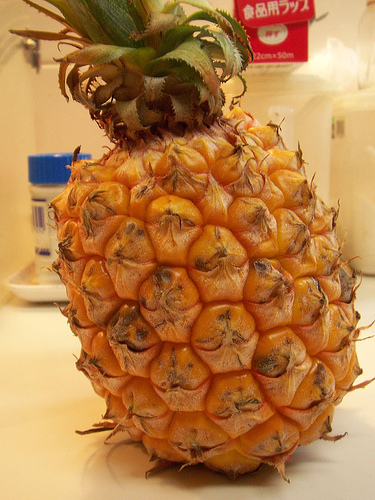pineapple: (0, 1, 372, 485)
